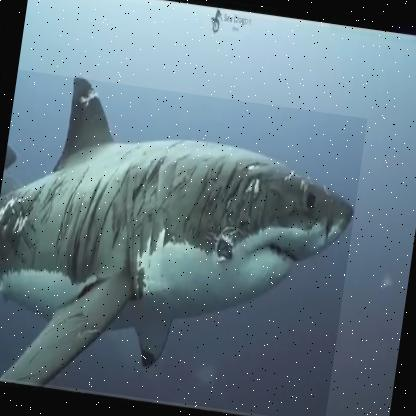white-shark: (0, 69, 369, 415)
